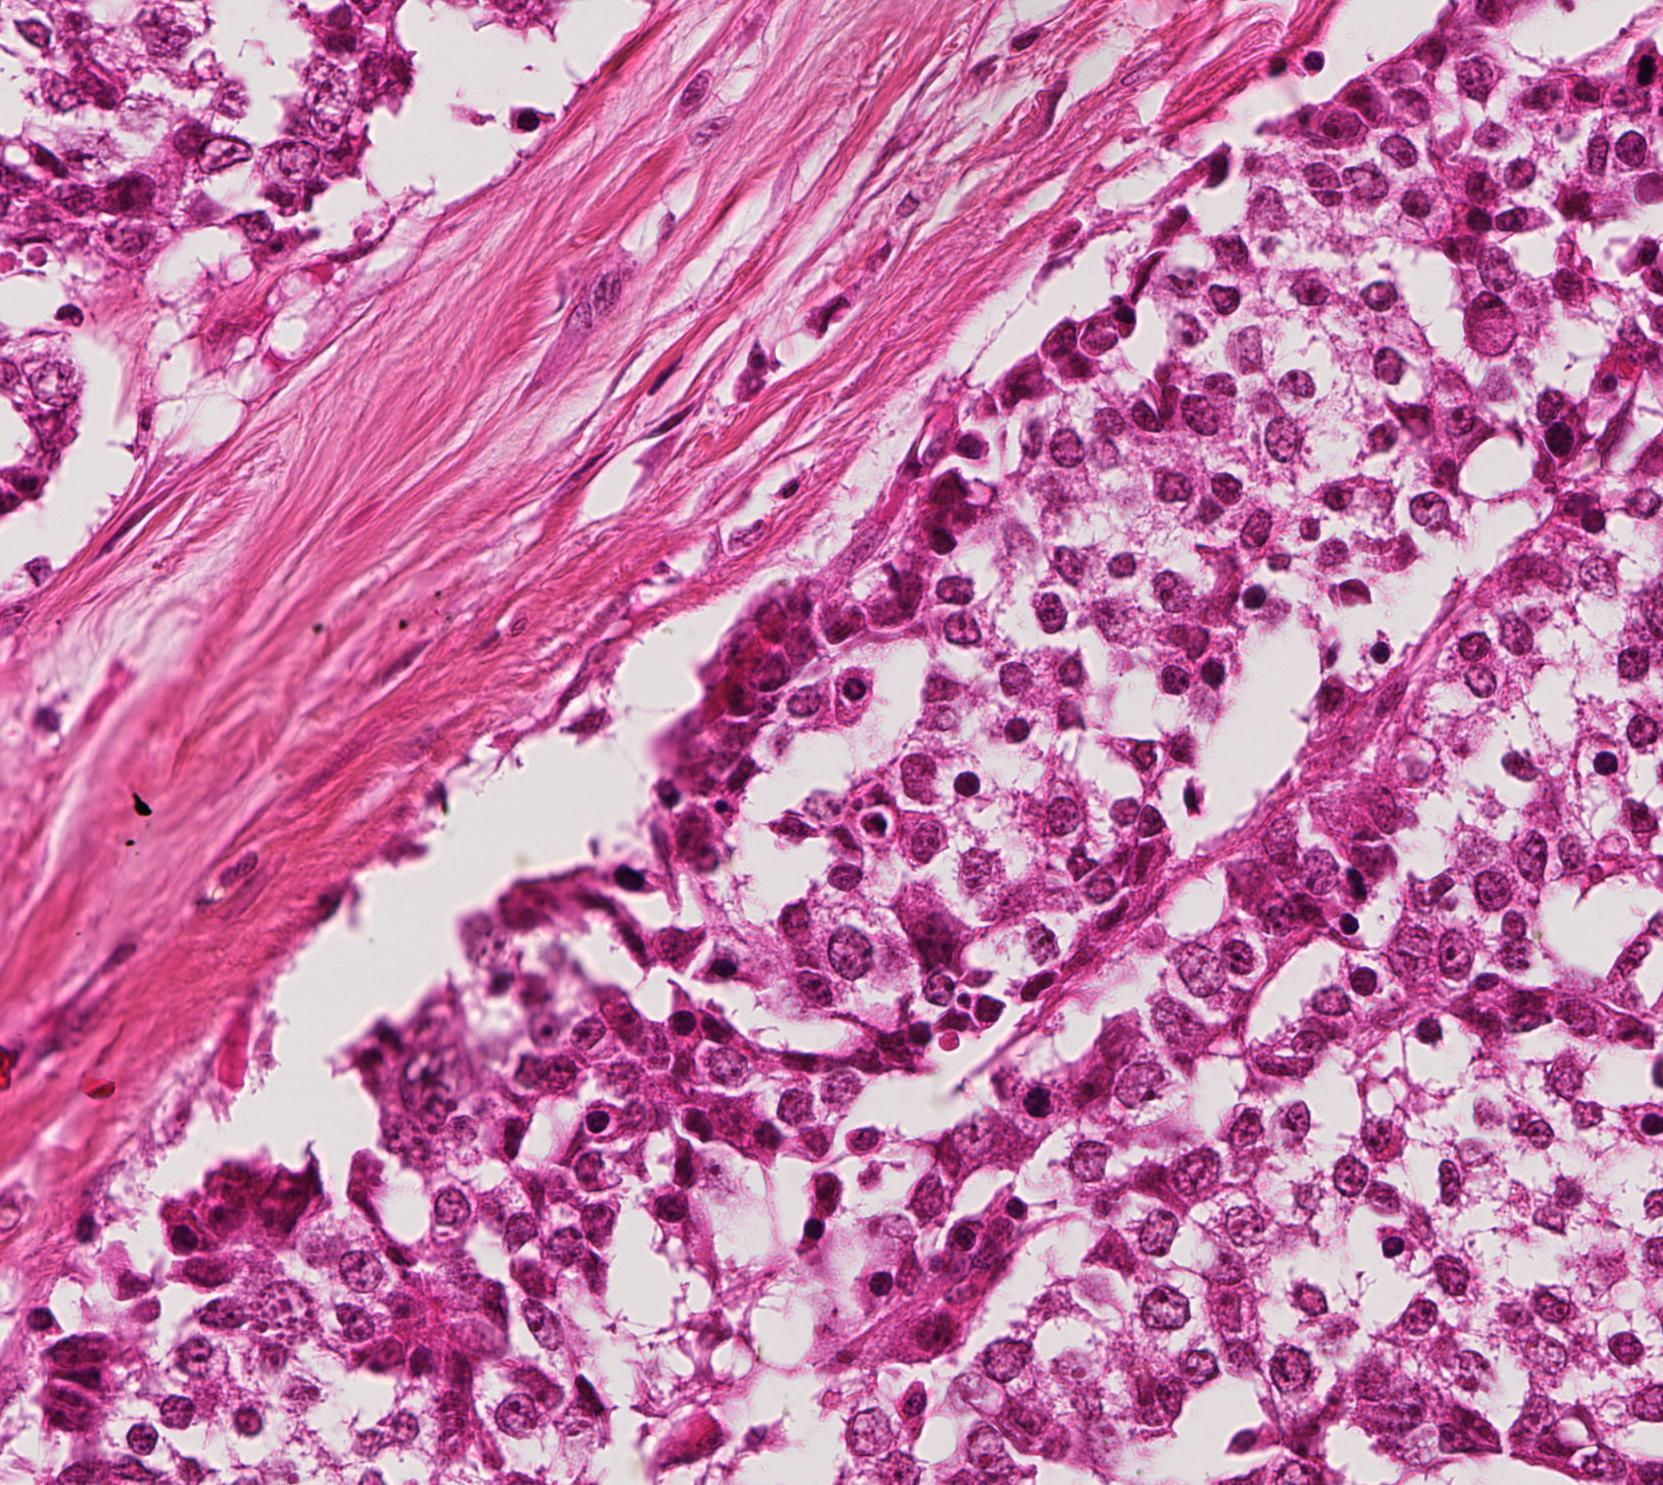mitosis: (1325, 846, 1385, 906), (1001, 1072, 1061, 1132)
